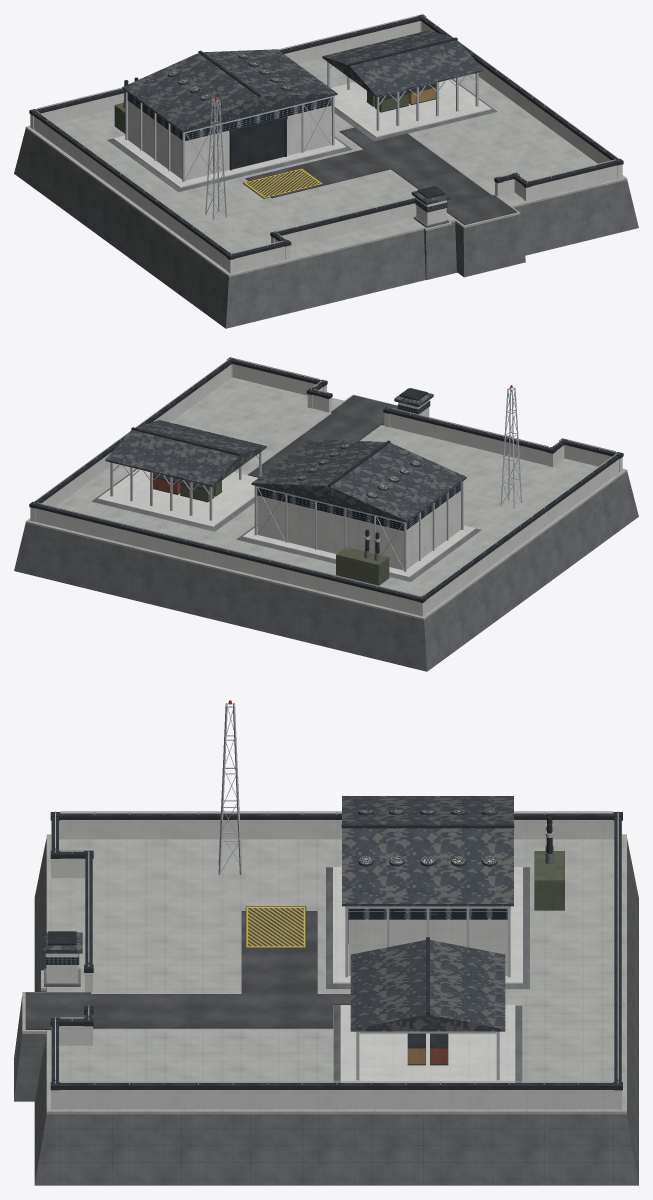
File: command_hq.glb
The picture shows the model from 3 angles, top to bottom: view 1: azimuth 30°, elevation 25°; view 2: azimuth 150°, elevation 25°; view 3: azimuth 270°, elevation 25°; orthographic projection. The views are drawn at different scales.
Visible parts, largest first — view 1: CHQ_L1_ConcDark, CHQ_L1_ConcMid, CHQ_L1_ConcLight, CHQ_L1_RoofCorr, CHQ_L1_SteelDark, CHQ_L1_Asphalt, CHQ_L1_SteelTruss, CHQ_L1_DoorCorr, CHQ_L1_WindowDark, CHQ_L1_HatchZone, CHQ_L1_MilOlive; view 2: CHQ_L1_ConcDark, CHQ_L1_ConcLight, CHQ_L1_ConcMid, CHQ_L1_RoofCorr, CHQ_L1_SteelDark, CHQ_L1_SteelTruss, CHQ_L1_Asphalt, CHQ_L1_MilOlive, CHQ_L1_WindowDark; view 3: CHQ_L1_ConcMid, CHQ_L1_ConcDark, CHQ_L1_ConcLight, CHQ_L1_RoofCorr, CHQ_L1_Asphalt, CHQ_L1_SteelDark, CHQ_L1_SteelTruss, CHQ_L1_HatchZone, CHQ_L1_WindowDark, CHQ_L1_MilOlive, CHQ_L1_RoofVent.
Part boxes in pixels (left/top/right/bottom): CHQ_L1_ConcDark: left=14, top=79, right=638, bottom=328; CHQ_L1_ConcMid: left=25, top=58, right=627, bottom=277; CHQ_L1_ConcLight: left=30, top=21, right=622, bottom=273; CHQ_L1_RoofCorr: left=122, top=30, right=483, bottom=205; CHQ_L1_SteelDark: left=29, top=14, right=623, bottom=259; CHQ_L1_Asphalt: left=245, top=127, right=516, bottom=225; CHQ_L1_SteelTruss: left=33, top=14, right=619, bottom=255; CHQ_L1_DoorCorr: left=232, top=120, right=284, bottom=169; CHQ_L1_WindowDark: left=127, top=93, right=447, bottom=212; CHQ_L1_HatchZone: left=242, top=168, right=323, bottom=198; CHQ_L1_MilOlive: left=114, top=91, right=408, bottom=133; CHQ_L1_ConcDark: left=14, top=468, right=638, bottom=671; CHQ_L1_ConcLight: left=30, top=364, right=622, bottom=616; CHQ_L1_ConcMid: left=25, top=377, right=627, bottom=620; CHQ_L1_RoofCorr: left=105, top=388, right=466, bottom=522; CHQ_L1_SteelDark: left=29, top=357, right=623, bottom=602; CHQ_L1_SteelTruss: left=33, top=357, right=619, bottom=598; CHQ_L1_Asphalt: left=248, top=395, right=398, bottom=477; CHQ_L1_MilOlive: left=180, top=481, right=389, bottom=585; CHQ_L1_WindowDark: left=257, top=401, right=461, bottom=530; CHQ_L1_ConcMid: left=22, top=834, right=626, bottom=1114; CHQ_L1_ConcDark: left=14, top=838, right=638, bottom=1185; CHQ_L1_ConcLight: left=46, top=820, right=621, bottom=1109; CHQ_L1_RoofCorr: left=41, top=796, right=513, bottom=1031; CHQ_L1_Asphalt: left=25, top=911, right=350, bottom=1029; CHQ_L1_SteelDark: left=48, top=812, right=622, bottom=1090; CHQ_L1_SteelTruss: left=55, top=703, right=618, bottom=1084; CHQ_L1_HatchZone: left=245, top=906, right=306, bottom=947; CHQ_L1_WindowDark: left=45, top=908, right=507, bottom=964; CHQ_L1_MilOlive: left=534, top=851, right=564, bottom=910; CHQ_L1_RoofVent: left=359, top=809, right=496, bottom=864.
Size of the model in its own units: 89.5 by 34.6 by 82.2.
Materials: 15 (15 with a texture image).
